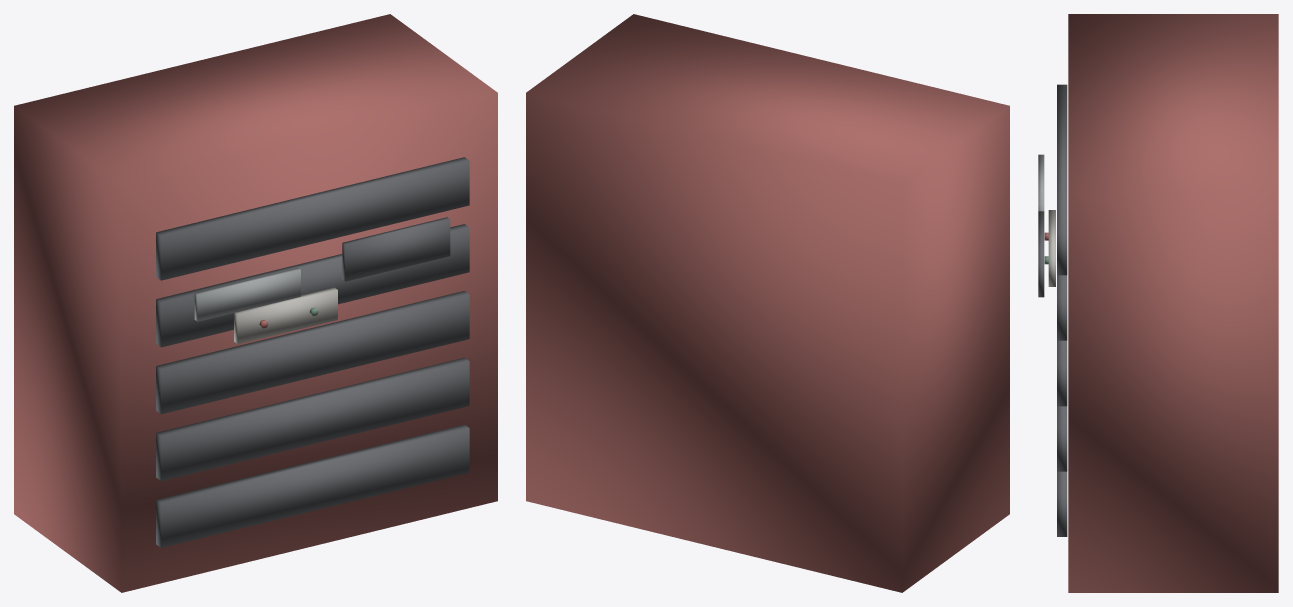
The model's file is tool_cabinet__weathered.glb.
The picture shows the model from 3 angles, left to right: view 1: azimuth 30°, elevation 25°; view 2: azimuth 150°, elevation 25°; view 3: azimuth 270°, elevation 25°; orthographic projection. The views are drawn at different scales.
Parts seen in each view (by area): view 1: world; view 2: world; view 3: world.
Part boxes in pixels (x1=…): world: x1=14, y1=14, x2=497, y2=592; world: x1=526, y1=14, x2=1009, y2=592; world: x1=1038, y1=14, x2=1278, y2=592.
Size of the model in its own units: 1.05 by 1.09 by 0.5938.
